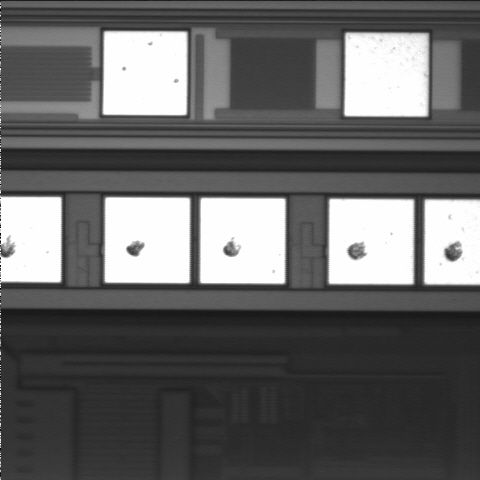pad: (105, 197, 190, 283), (200, 198, 285, 284), (329, 199, 414, 284), (103, 32, 187, 115), (345, 33, 428, 116)
